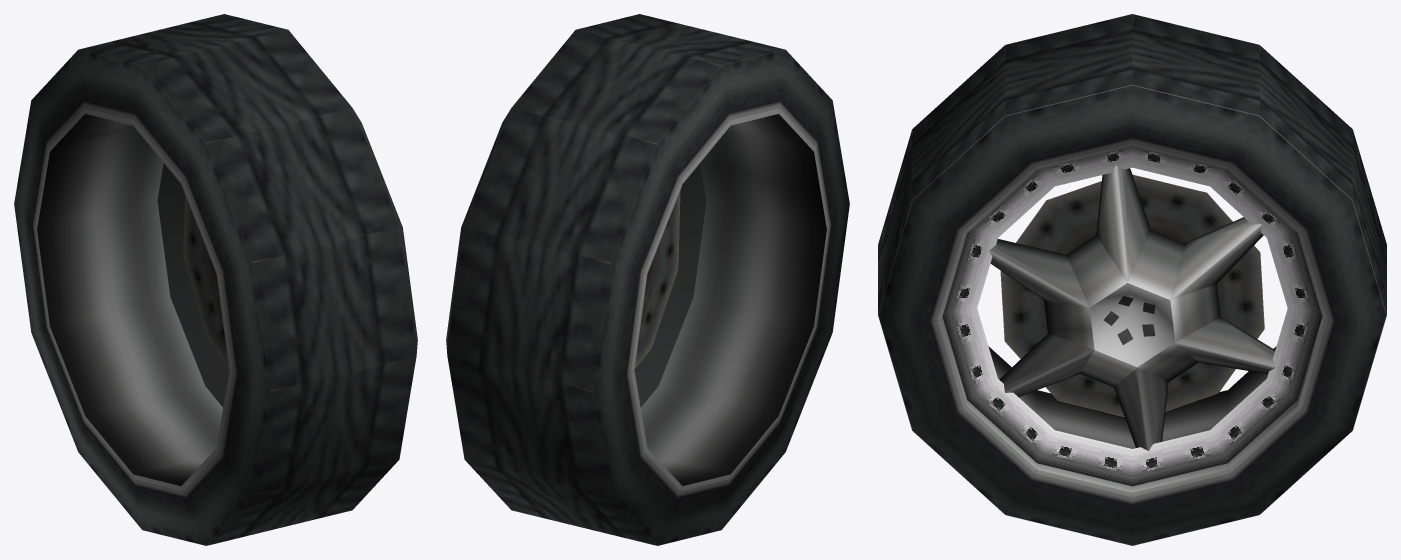
File: DefaultWheel_euros.glb
The picture shows the model from 3 angles, left to right: view 1: azimuth 30°, elevation 25°; view 2: azimuth 150°, elevation 25°; view 3: azimuth 270°, elevation 25°; orthographic projection.
Visible parts, largest first — view 1: wheel; view 2: wheel; view 3: wheel.
Boxes of the visible parts, bbox=[...] form: wheel: bbox=[14, 14, 417, 545]; wheel: bbox=[446, 14, 849, 545]; wheel: bbox=[878, 14, 1386, 545].
Bounding box in the file's own units: 0.3 × 0.7598 × 0.7598.
3 materials, 3 textured.
